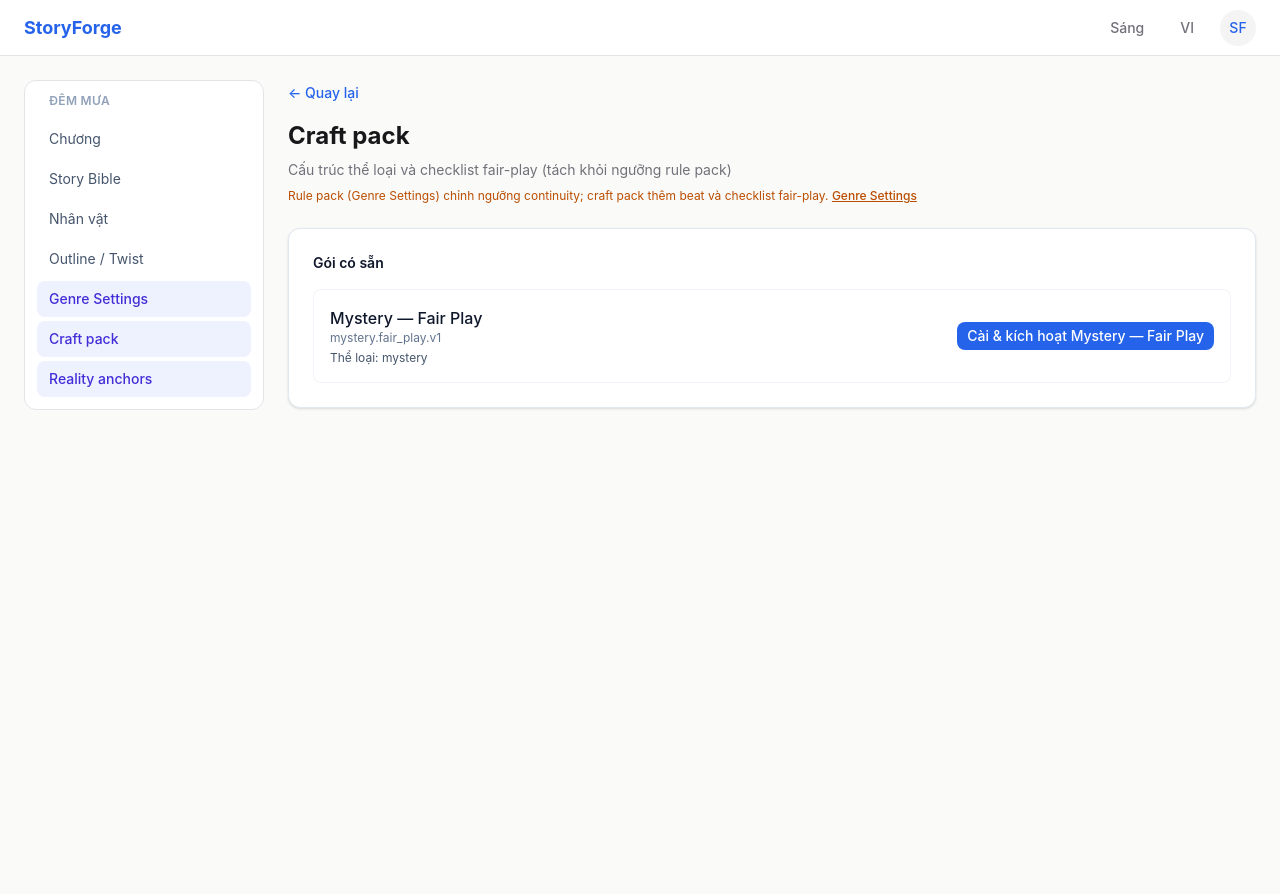
Scenario: craft settings › deactivates active pack
Check: the text "Mystery — Fair Play" is shown, box x1=330 y1=306 x2=482 y2=330
Click the button "Cài & kích hoạt Mystery — Fair Play": click(1086, 336) x1=957 y1=322 x2=1214 y2=350
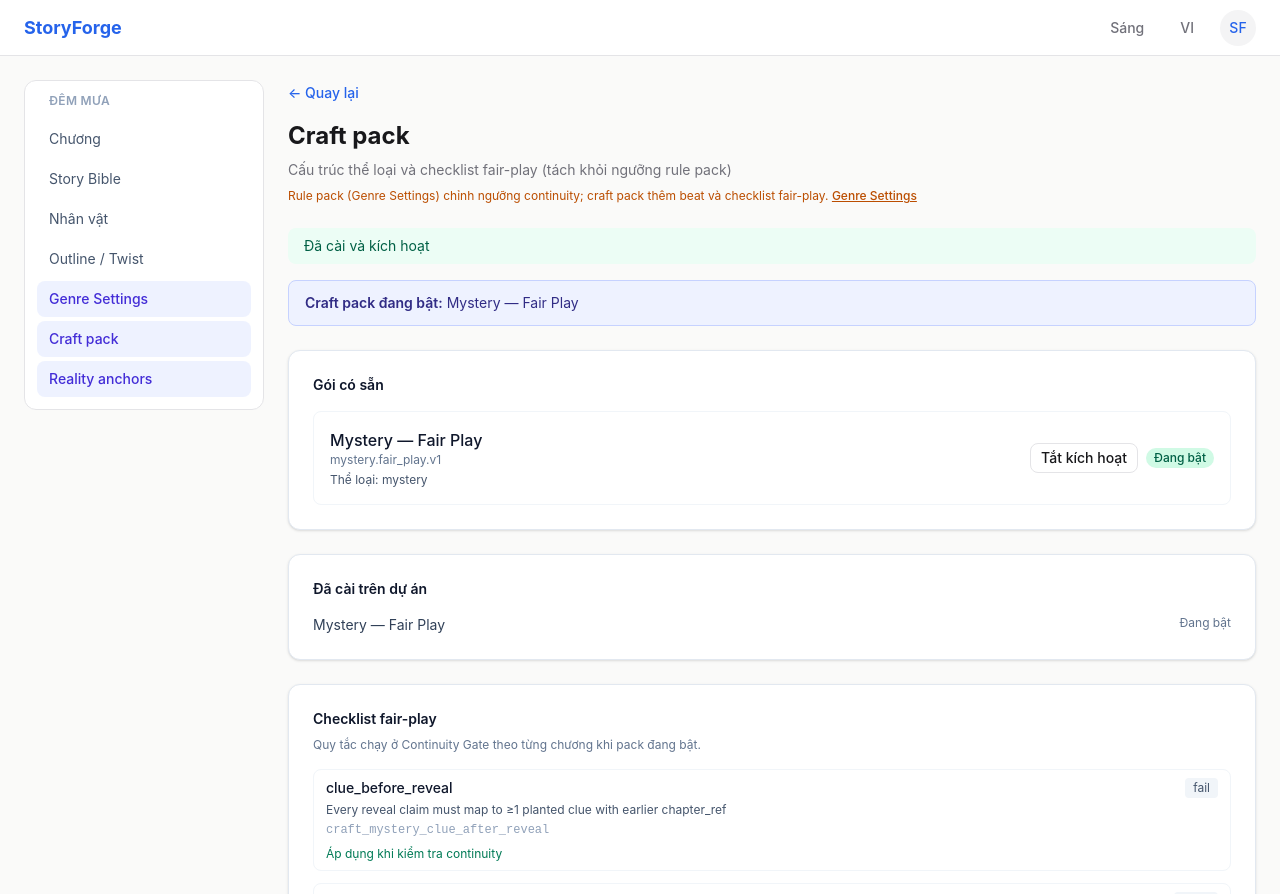
Check: the button "Tắt kích hoạt" is shown
Click the button "Tắt kích hoạt": click(1084, 458) x1=1030 y1=443 x2=1138 y2=473
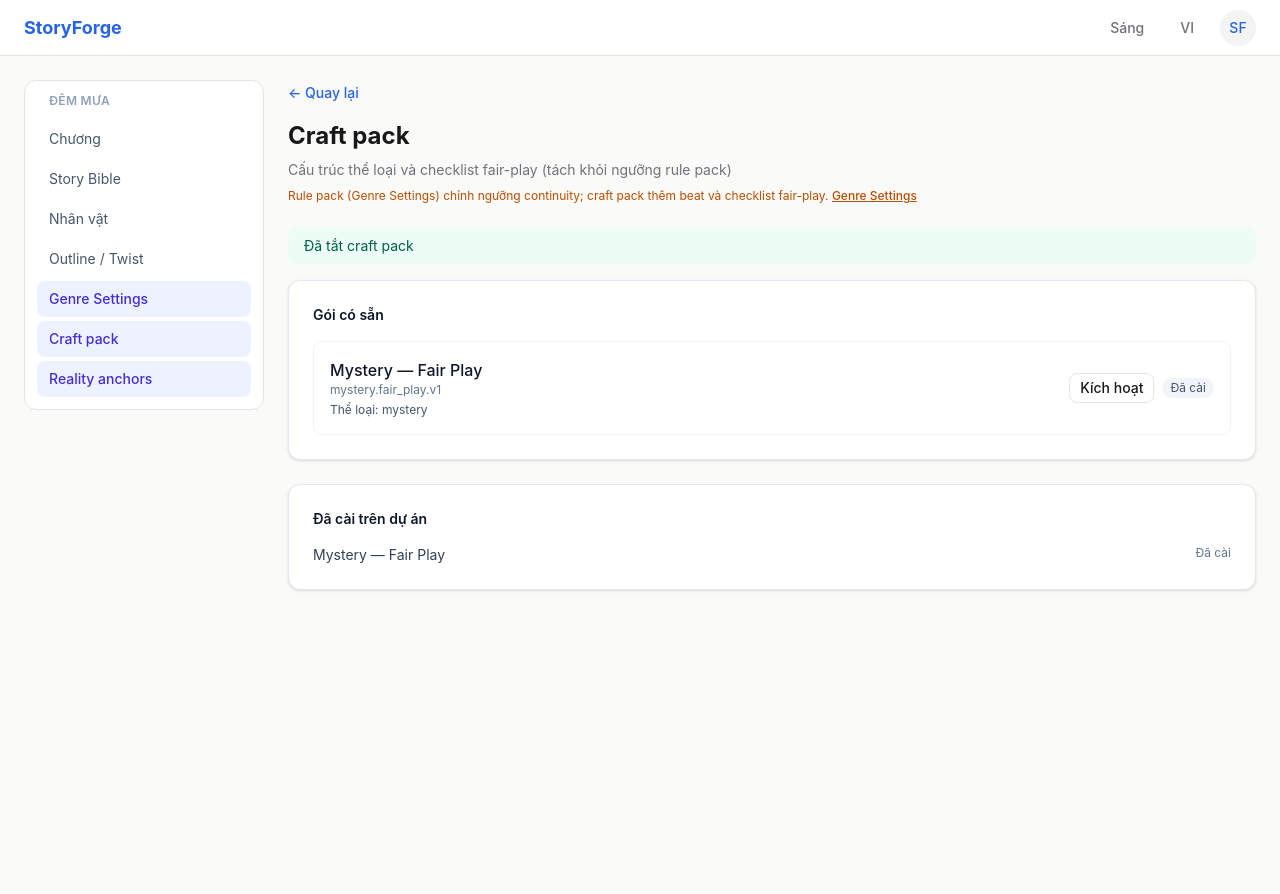
Check: the text "Đã tắt craft pack" is shown, box x1=288 y1=228 x2=1256 y2=264
